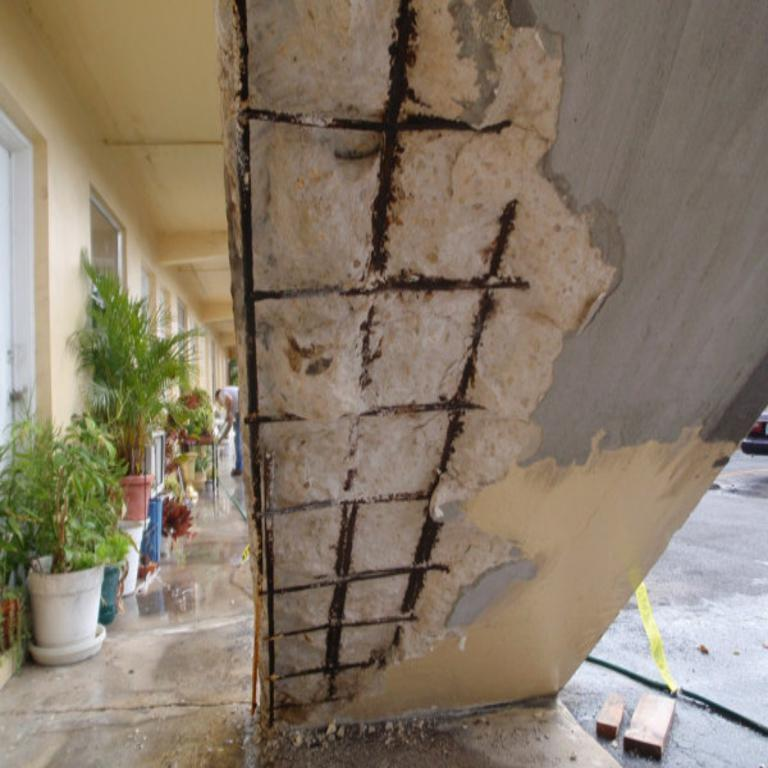damage: (214, 2, 630, 740)
